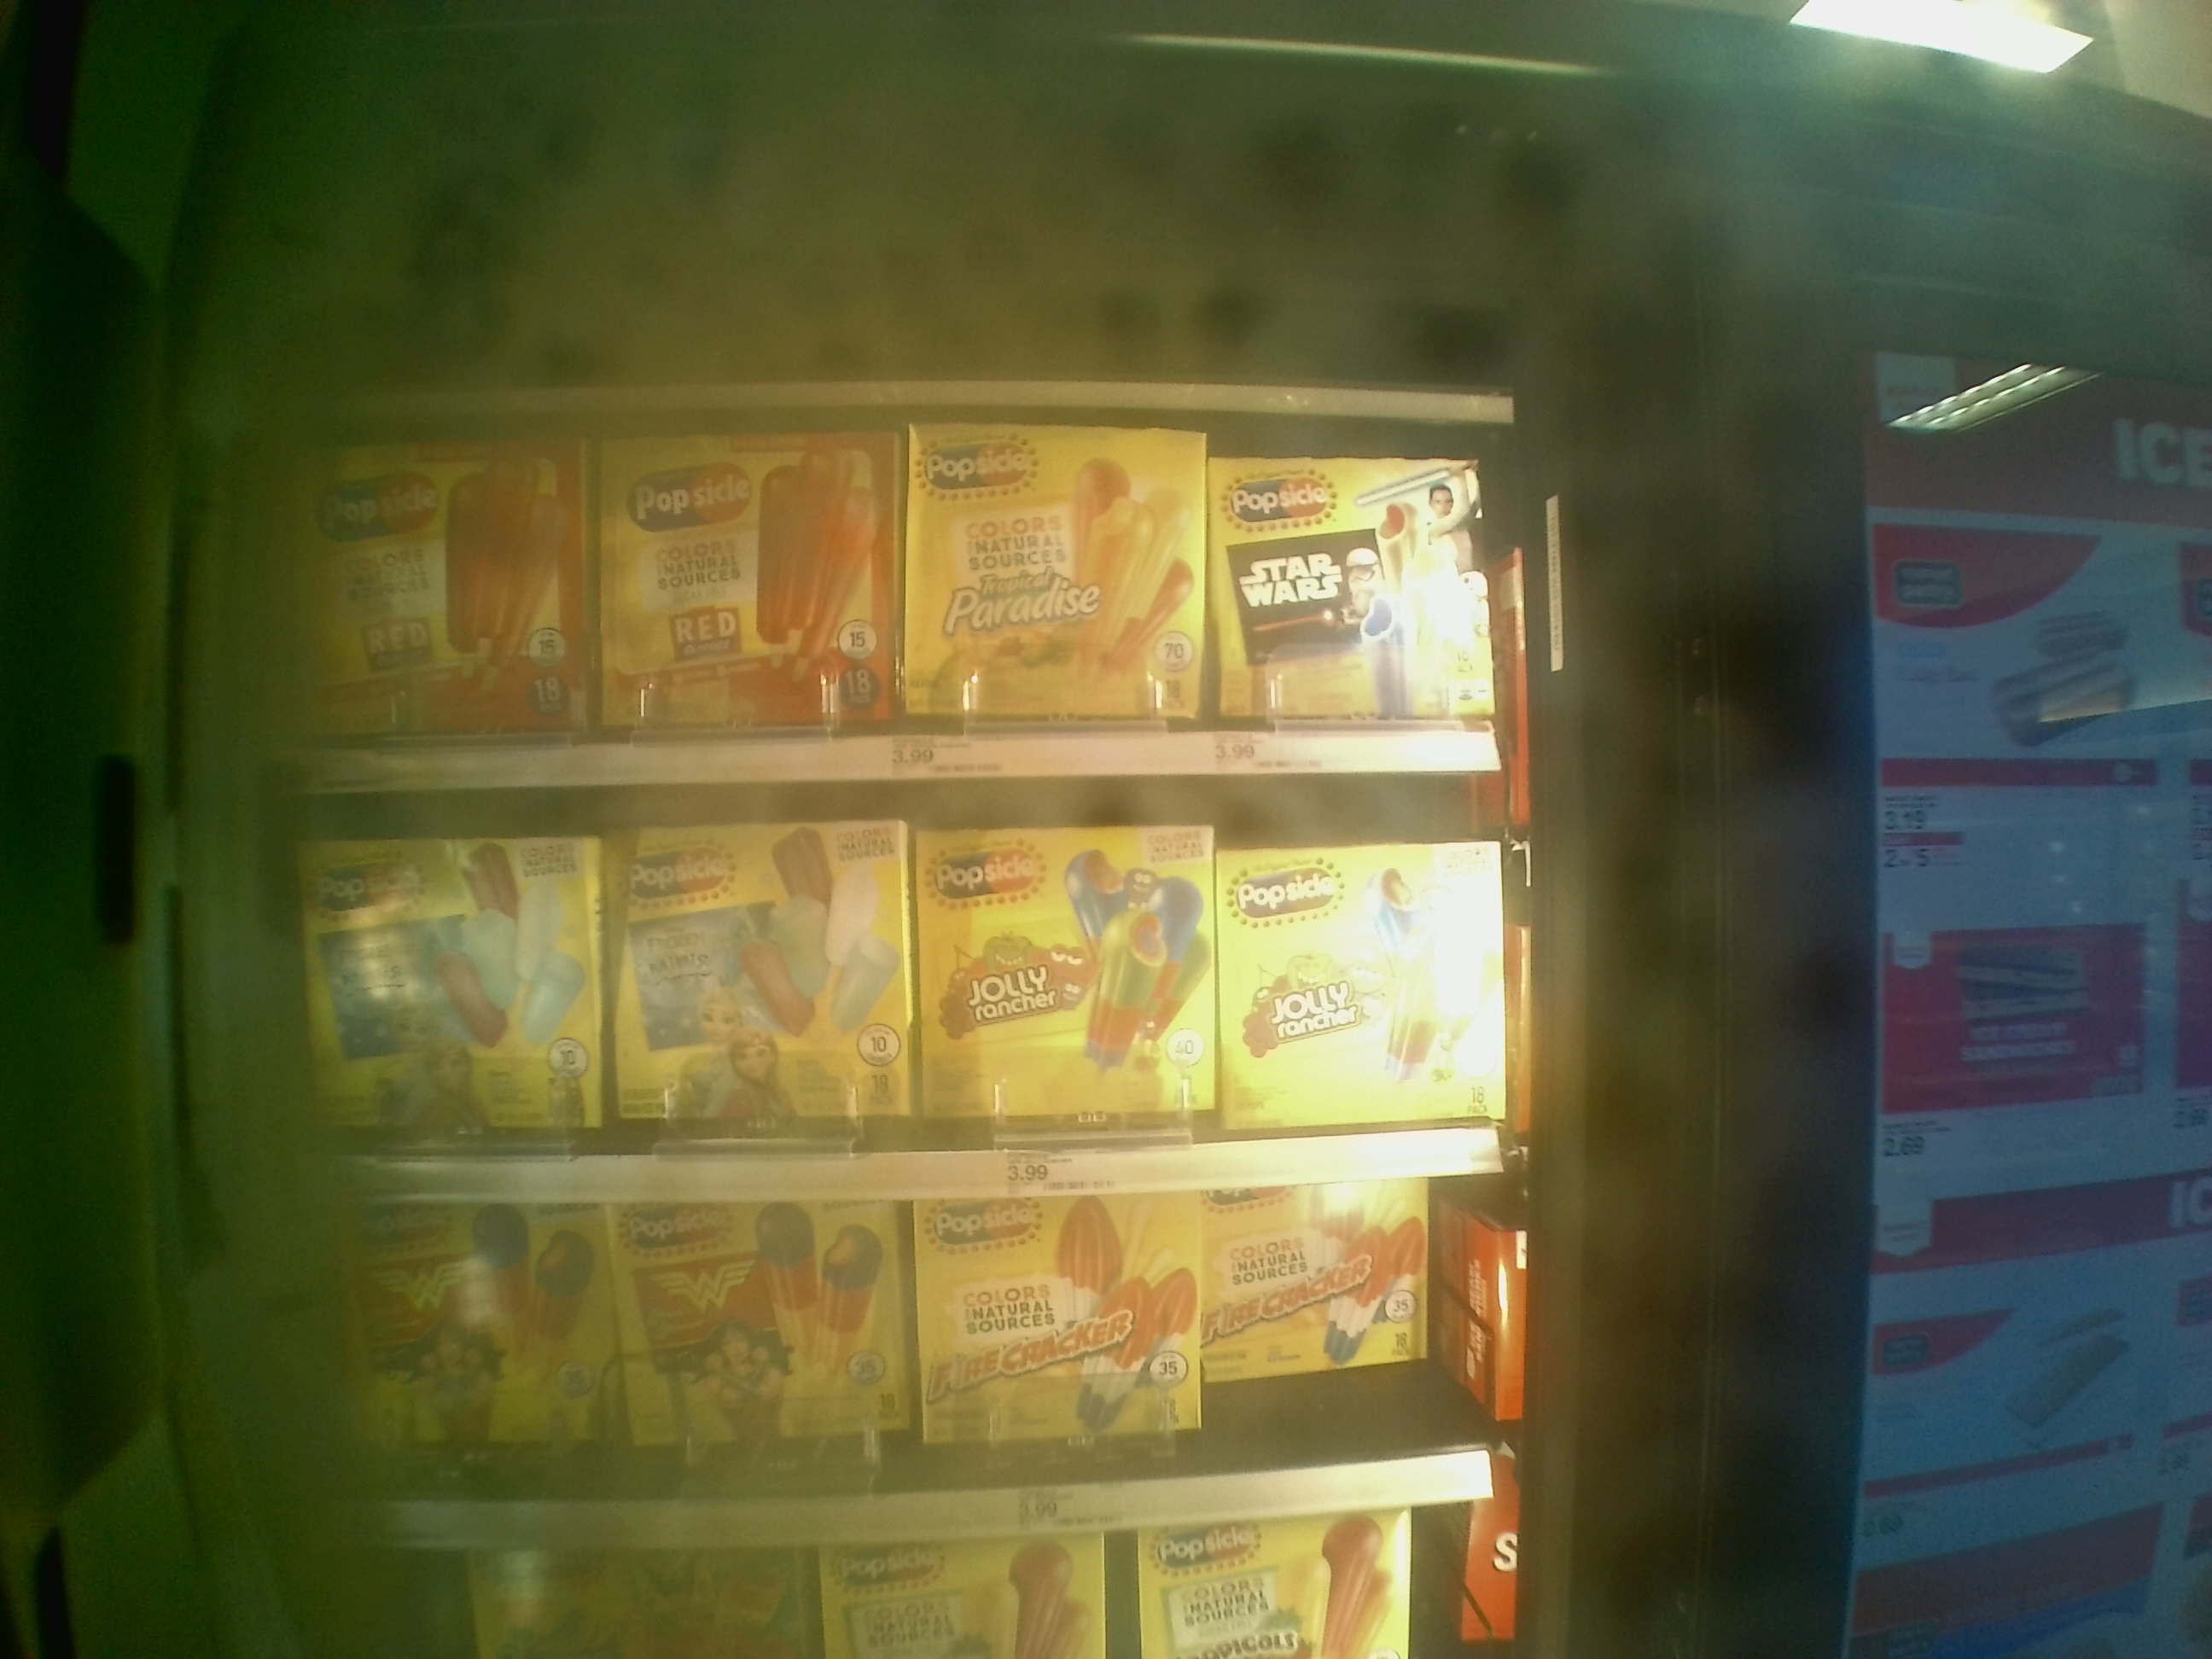shelf: (268, 385, 1508, 772), (275, 788, 1521, 1173), (291, 1195, 1522, 1539)
